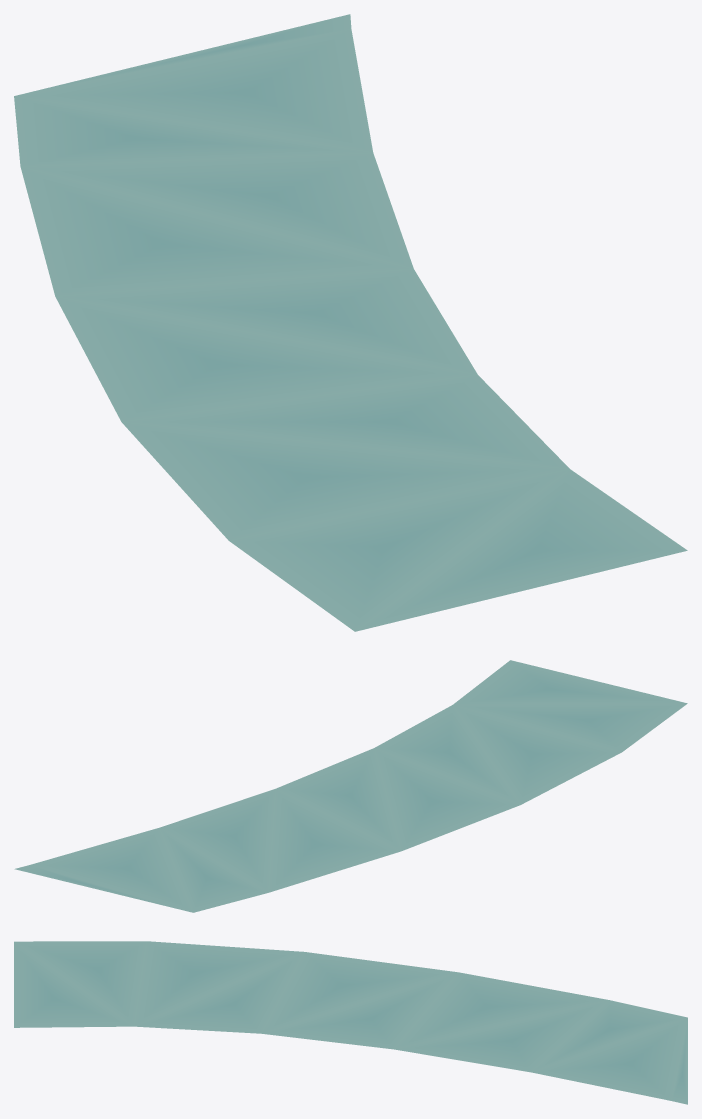
The model's file is water-15-5.glb.
3 views of the same model, one above another, from view 1: azimuth 30°, elevation 25°; view 2: azimuth 150°, elevation 25°; view 3: azimuth 270°, elevation 25° (orthographic). The views are drawn at different scales.
Bounding box in the file's own units: 9.19 × 0 × 16.
